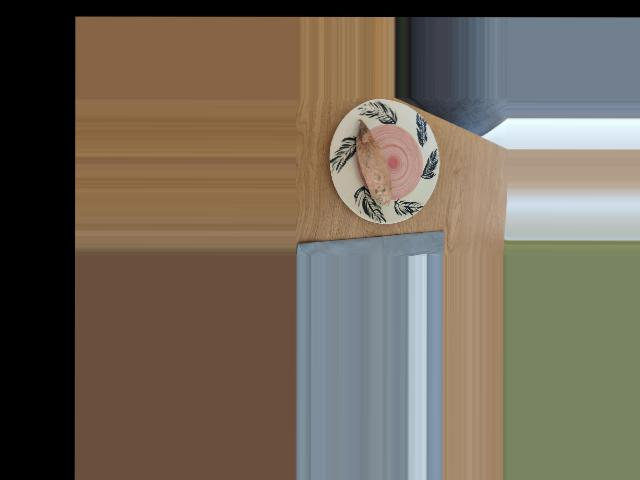sweet_potato: (349, 126, 397, 202)
